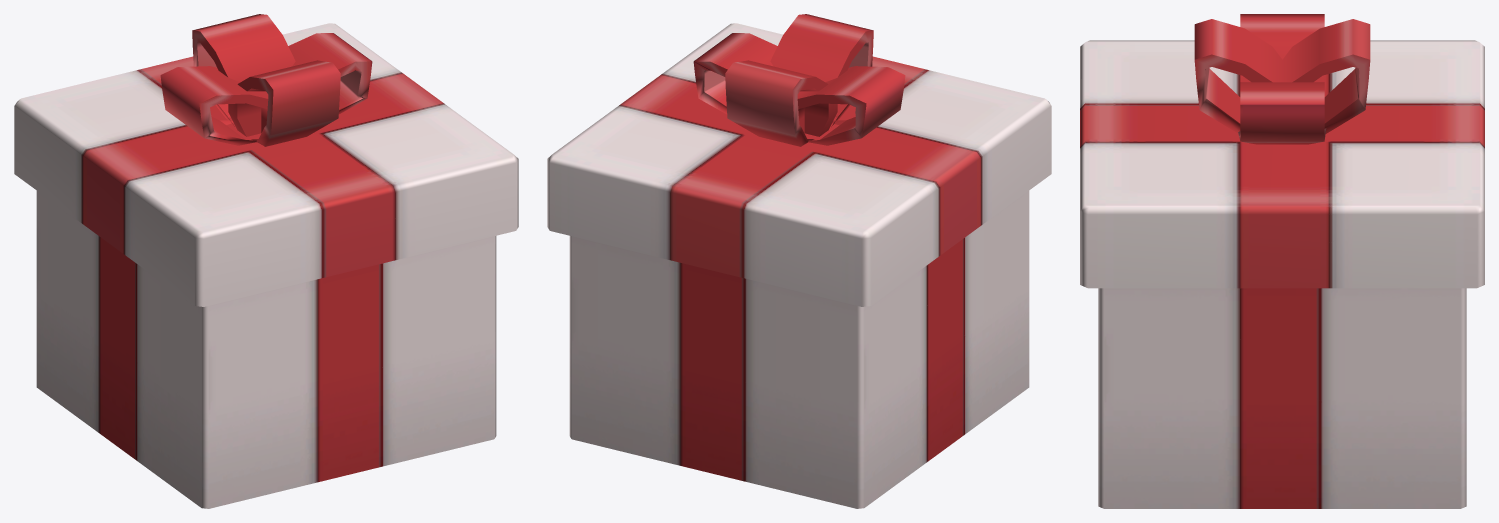
Rendered from FestiveCrateHand.fbx.
3 views of the same model, side by side, from view 1: azimuth 30°, elevation 25°; view 2: azimuth 150°, elevation 25°; view 3: azimuth 270°, elevation 25° (orthographic). The views are drawn at different scales.
Parts seen in each view (by area): view 1: crate (1), crate; view 2: crate (1), crate; view 3: crate (1), crate.
Part boxes in pixels (x1,y1,x2,y2): crate (1): [14, 14, 518, 306]; crate: [36, 191, 496, 508]; crate (1): [547, 14, 1051, 306]; crate: [569, 191, 1029, 508]; crate (1): [1080, 14, 1484, 288]; crate: [1098, 288, 1466, 508].
Size of the model in its own units: 0.8447 by 0.9086 by 0.8447.
